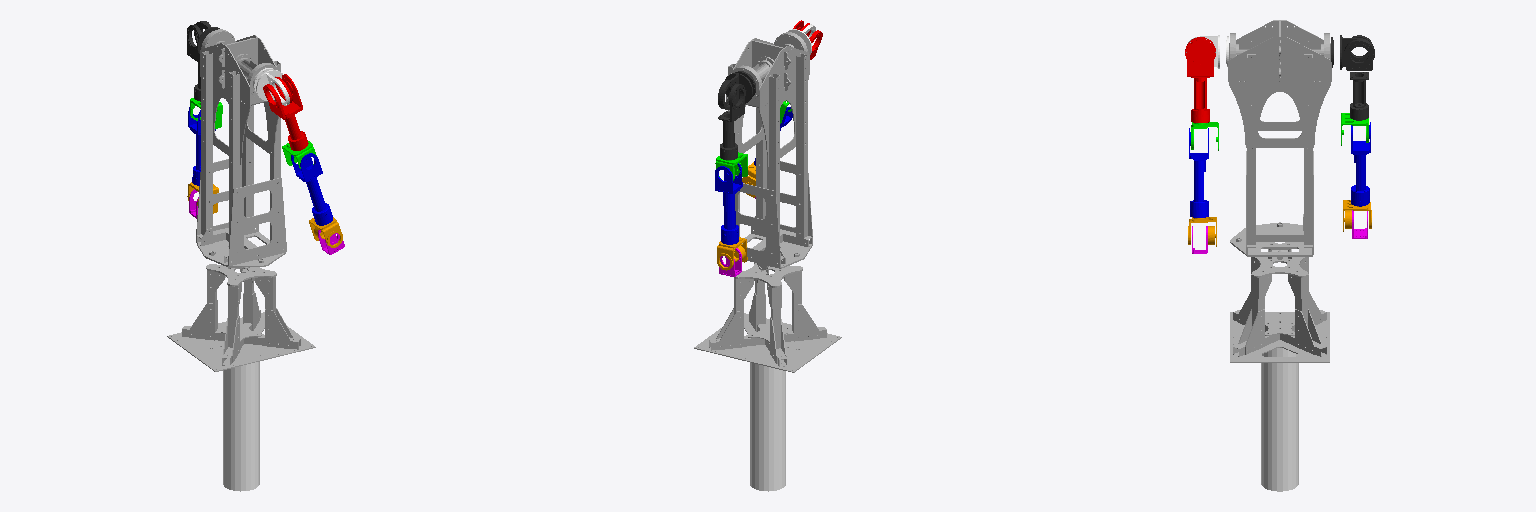
URDF robot description (neurobotboth):
<robot
  name="neurobotboth">
  <link 
    name="base_footprint">
    <visual>
    <origin rpy="0 0 0" xyz="0 0 0"/>
    <geometry>
       <box size="0.05 0.05 0.001"/>
    </geometry>
    <material name="TransparentGreen"/>
    </visual>
  </link>
  <link
    name="base_leg">
    <inertial>
      <origin
        xyz="0 -1.11022302462516E-16 0.2335"
        rpy="0 0 0" />
      <mass
        value="4.43804940190996" />
      <inertia
        ixx="0.0840137545279562"
        ixy="0"
        ixz="-5.53246823430371E-34"
        iyy="0.0840137545279562"
        iyz="1.8876145408187E-34"
        izz="0.00671254972038881" />
    </inertial>
    <visual>
      <origin
        xyz="0 0 0"
        rpy="0 0 0" />
      <geometry>
        <mesh
          filename="package://neurobotboth/meshes/base_leg.stl" />
      </geometry>
      <material
        name="">
        <color
          rgba="1 1 1 1" />
      </material>
    </visual>
    <collision>
      <origin
        xyz="0 0 0"
        rpy="0 0 0" />
      <geometry>
        <mesh
          filename="package://neurobotboth/meshes/base_leg.stl" />
      </geometry>
    </collision>
  </link>
  <joint name="joint_footprint" type="fixed">
    <origin rpy="0 0 0" xyz="0 0 0"/>
    <parent link="base_footprint"/>
    <child link="base_leg"/>
  </joint>
  <link
    name="base_link">
    <inertial>
      <origin
        xyz="-0.00215359092121389 -0.000793224055706809 0.502026253045581"
        rpy="0 0 0" />
      <mass
        value="2.59431720777893" />
      <inertia
        ixx="0.3523313561318"
        ixy="0.000539614748826474"
        ixz="0.00816862739544269"
        iyy="0.351242034325023"
        iyz="-0.00125197561514708"
        izz="0.0345525607669928" />
    </inertial>
    <visual>
      <origin
        xyz="0 0 0"
        rpy="0 0 0" />
      <geometry>
        <mesh
          filename="package://neurobotboth/meshes/base_link.stl" />
      </geometry>
      <material
        name="">
        <color
          rgba="0.752941176470588 0.752941176470588 0.752941176470588 1" />
      </material>
    </visual>
    <collision>
      <origin
        xyz="0 0 0"
        rpy="0 0 0" />
      <geometry>
        <mesh
          filename="package://neurobotboth/meshes/base_link.stl" />
      </geometry>
    </collision>
  </link>
  <joint
    name="joint_base"
    type="fixed">
    <origin
      xyz="-0.0056343 4.8341E-05 0.467"
      rpy="0 0 0" />
    <parent
      link="base_leg" />
    <child
      link="base_link" />
    <axis
      xyz="0 0 0" />
  </joint>
  <link
    name="right_arm_link_0">
  </link>
  <joint
    name="right_arm_joint_0"
    type="fixed">
    <origin
      xyz="0.0056343 -0.14605 0.919"
      rpy="1.5708 0.30972 -3.1416" />
    <parent
      link="base_link" />
    <child
      link="right_arm_link_0" />
    <axis
      xyz="0 0 0" />
  </joint>
  <link
    name="right_arm_link_1">
    <inertial>
      <origin
        xyz="-0.000327200298236963 -1.66533453693773E-16 -0.0359628362808107"
        rpy="0 0 0" />
      <mass
        value="0.107035798022397" />
      <inertia
        ixx="0.000188785968780782"
        ixy="-7.68864379368039E-21"
        ixz="-1.68236451485131E-06"
        iyy="0.000157075498484323"
        iyz="-2.07212052166984E-19"
        izz="0.000125761271549389" />
    </inertial>
    <visual>
      <origin
        xyz="0 0 0"
        rpy="0 0 0" />
      <geometry>
        <mesh
          filename="package://neurobotboth/meshes/right_arm_link_1.stl" />
      </geometry>
      <material
        name="">
        <color
          rgba="1 1 1 1" />
      </material>
    </visual>
    <collision>
      <origin
        xyz="0 0 0"
        rpy="0 0 0" />
      <geometry>
        <mesh
          filename="package://neurobotboth/meshes/right_arm_link_1.stl" />
      </geometry>
    </collision>
  </link>
  <joint
    name="right_arm_joint_1"
    type="revolute">
    <origin
      xyz="0 0 -0.001"
      rpy="0 0 0" />
    <parent
      link="right_arm_link_0" />
    <child
      link="right_arm_link_1" />
    <axis
      xyz="0 0 1" />
    <limit
      lower="-1.57"
      upper="1.57"
      effort="2"
      velocity="0.5" />
  </joint>
  <link
    name="right_arm_link_2">
    <inertial>
      <origin
        xyz="0.0650617938997774 -3.74272418668387E-06 0.00884791201131907"
        rpy="0 0 0" />
      <mass
        value="0.255566385563294" />
      <inertia
        ixx="0.00024551385027943"
        ixy="1.05634262378188E-07"
        ixz="1.70511900676993E-05"
        iyy="0.00127080560186476"
        iyz="1.1028518537721E-09"
        izz="0.00126072659055335" />
    </inertial>
    <visual>
      <origin
        xyz="0 0 0"
        rpy="0 0 0" />
      <geometry>
        <mesh
          filename="package://neurobotboth/meshes/right_arm_link_2.stl" />
      </geometry>
      <material
        name="">
        <color
          rgba="1 0 0 1" />
      </material>
    </visual>
    <collision>
      <origin
        xyz="0 0 0"
        rpy="0 0 0" />
      <geometry>
        <mesh
          filename="package://neurobotboth/meshes/right_arm_link_2.stl" />
      </geometry>
    </collision>
  </link>
  <joint
    name="right_arm_joint_2"
    type="revolute">
    <origin
      xyz="0.004 0 -0.084"
      rpy="1.5708 -2.1829E-14 -1.5708" />
    <parent
      link="right_arm_link_1" />
    <child
      link="right_arm_link_2" />
    <axis
      xyz="0 0 -1" />
    <limit
      lower="-0.78"
      upper="0.78"
      effort="2"
      velocity="0.5" />
  </joint>
  <link
    name="right_arm_link_3">
    <inertial>
      <origin
        xyz="0.0153020226123044 -5.81423797996194E-13 -0.0262980249667745"
        rpy="0 0 0" />
      <mass
        value="0.0789715110556532" />
      <inertia
        ixx="7.19666232277633E-05"
        ixy="1.68404549474258E-15"
        ixz="1.68863370887187E-05"
        iyy="0.000116283270534729"
        iyz="-6.41649606133214E-16"
        izz="0.000104168336512131" />
    </inertial>
    <visual>
      <origin
        xyz="0 0 0"
        rpy="0 0 0" />
      <geometry>
        <mesh
          filename="package://neurobotboth/meshes/right_arm_link_3.stl" />
      </geometry>
      <material
        name="">
        <color
          rgba="0 1 0.00392156862745098 1" />
      </material>
    </visual>
    <collision>
      <origin
        xyz="0 0 0"
        rpy="0 0 0" />
      <geometry>
        <mesh
          filename="package://neurobotboth/meshes/right_arm_link_3.stl" />
      </geometry>
    </collision>
  </link>
  <joint
    name="right_arm_joint_3"
    type="revolute">
    <origin
      xyz="0.204 0 0.01"
      rpy="-1.5708 3.8018E-11 1.5708" />
    <parent
      link="right_arm_link_2" />
    <child
      link="right_arm_link_3" />
    <axis
      xyz="0.0048522 0 0.99999" />
    <limit
      lower="-3.14"
      upper="3.14"
      effort="2"
      velocity="0.5" />
  </joint>
  <link
    name="right_arm_link_4">
    <inertial>
      <origin
        xyz="0.110286427763568 -2.47783699109938E-05 0.0247402908898989"
        rpy="0 0 0" />
      <mass
        value="0.1635924370838" />
      <inertia
        ixx="9.17176019284682E-05"
        ixy="3.47472024491752E-07"
        ixz="1.44062358020974E-05"
        iyy="0.000940638096634904"
        iyz="-9.43821184593951E-09"
        izz="0.000935522761596194" />
    </inertial>
    <visual>
      <origin
        xyz="0 0 0"
        rpy="0 0 0" />
      <geometry>
        <mesh
          filename="package://neurobotboth/meshes/right_arm_link_4.stl" />
      </geometry>
      <material
        name="">
        <color
          rgba="0 0 1 1" />
      </material>
    </visual>
    <collision>
      <origin
        xyz="0 0 0"
        rpy="0 0 0" />
      <geometry>
        <mesh
          filename="package://neurobotboth/meshes/right_arm_link_4.stl" />
      </geometry>
    </collision>
  </link>
  <joint
    name="right_arm_joint_4"
    type="revolute">
    <origin
      xyz="0.02 0 -0.051"
      rpy="3.1416 1.5708 0" />
    <parent
      link="right_arm_link_3" />
    <child
      link="right_arm_link_4" />
    <axis
      xyz="0 0 -1" />
    <limit
      lower="-1.57"
      upper="1.57"
      effort="2"
      velocity="0.5" />
  </joint>
  <link
    name="right_arm_link_5">
    <inertial>
      <origin
        xyz="-2.02615701994091E-15 0.0169801683752191 -0.0349097801090397"
        rpy="0 0 0" />
      <mass
        value="0.0980468372542702" />
      <inertia
        ixx="0.000146622459303631"
        ixy="1.29985969140156E-08"
        ixz="-5.66526182695182E-11"
        iyy="9.25528351448713E-05"
        iyz="2.22452497831366E-05"
        izz="0.000108961772352676" />
    </inertial>
    <visual>
      <origin
        xyz="0 0 0"
        rpy="0 0 0" />
      <geometry>
        <mesh
          filename="package://neurobotboth/meshes/right_arm_link_5.stl" />
      </geometry>
      <material
        name="">
        <color
          rgba="1 0.666666666666667 0 1" />
      </material>
    </visual>
    <collision>
      <origin
        xyz="0 0 0"
        rpy="0 0 0" />
      <geometry>
        <mesh
          filename="package://neurobotboth/meshes/right_arm_link_5.stl" />
      </geometry>
    </collision>
  </link>
  <joint
    name="right_arm_joint_5"
    type="revolute">
    <origin
      xyz="0.2275 0 0.022412"
      rpy="-1.5664 -3.7816E-11 1.5708" />
    <parent
      link="right_arm_link_4" />
    <child
      link="right_arm_link_5" />
    <axis
      xyz="0 0 1" />
    <limit
      lower="-3.14"
      upper="3.14"
      effort="2"
      velocity="0.5" />
  </joint>
  <link
    name="right_arm_link_6">
    <inertial>
      <origin
        xyz="0.0287664746286838 -7.08211267408387E-13 0.0186548764386218"
        rpy="0 0 0" />
      <mass
        value="0.0342933650278287" />
      <inertia
        ixx="2.12655468606329E-05"
        ixy="-2.18723494617966E-17"
        ixz="5.76746741176577E-07"
        iyy="2.81264708549031E-05"
        iyz="8.96065566988484E-17"
        izz="2.57654425067357E-05" />
    </inertial>
    <visual>
      <origin
        xyz="0 0 0"
        rpy="0 0 0" />
      <geometry>
        <mesh
          filename="package://neurobotboth/meshes/right_arm_link_6.stl" />
      </geometry>
      <material
        name="">
        <color
          rgba="1 0 1 1" />
      </material>
    </visual>
    <collision>
      <origin
        xyz="0 0 0"
        rpy="0 0 0" />
      <geometry>
        <mesh
          filename="package://neurobotboth/meshes/right_arm_link_6.stl" />
      </geometry>
    </collision>
  </link>
  <joint
    name="right_arm_joint_6"
    type="revolute">
    <origin
      xyz="0 0.017758 -0.055578"
      rpy="-5.1124E-11 1.5664 -1.5708" />
    <parent
      link="right_arm_link_5" />
    <child
      link="right_arm_link_6" />
    <axis
      xyz="0 0 -1" />
    <limit
      lower="-1.57"
      upper="1.57"
      effort="2"
      velocity="0.5" />
  </joint>
  <link
    name="left_arm_link_0">
  </link>
  <joint
    name="left_arm_joint_0"
    type="fixed">
    <origin
      xyz="0.0056343 0.14595 0.917"
      rpy="1.5734 -0.018325 3.0023" />
    <parent
      link="base_link" />
    <child
      link="left_arm_link_0" />
    <axis
      xyz="0 0 0" />
  </joint>
  <link
    name="left_arm_Link_1">
    <inertial>
      <origin
        xyz="0.00466685580630952 -1.11022302462516E-15 0.0356602455160837"
        rpy="0 0 0" />
      <mass
        value="0.107035798022396" />
      <inertia
        ixx="0.000188034571467992"
        ixy="-1.1808830424807E-20"
        ixz="-7.04431263850407E-06"
        iyy="0.000157075498483852"
        iyz="-1.18319914819585E-19"
        izz="0.000126512668861709" />
    </inertial>
    <visual>
      <origin
        xyz="0 0 0"
        rpy="0 0 0" />
      <geometry>
        <mesh
          filename="package://neurobotboth/meshes/left_arm_Link_1.stl" />
      </geometry>
      <material
        name="">
        <color
          rgba="0.250980392156863 0.250980392156863 0.250980392156863 1" />
      </material>
    </visual>
    <collision>
      <origin
        xyz="0 0 0"
        rpy="0 0 0" />
      <geometry>
        <mesh
          filename="package://neurobotboth/meshes/left_arm_Link_1.stl" />
      </geometry>
    </collision>
  </link>
  <joint
    name="left_arm_joint_1"
    type="revolute">
    <origin
      xyz="0 0 0.001"
      rpy="0 0 0" />
    <parent
      link="left_arm_link_0" />
    <child
      link="left_arm_Link_1" />
    <axis
      xyz="0.13878 0 0.99032" />
    <limit
      lower="-1.57"
      upper="1.57"
      effort="2"
      velocity="0.5" />
  </joint>
  <link
    name="left_arm_link_2">
    <inertial>
      <origin
        xyz="0.0788175837647441 -5.95414185977639E-06 0.000165336903578506"
        rpy="0 0 0" />
      <mass
        value="0.160646914181548" />
      <inertia
        ixx="0.000125127504737375"
        ixy="9.24766480165639E-08"
        ixz="-7.06597547048381E-05"
        iyy="0.00102428232334361"
        iyz="9.40786019061417E-09"
        izz="0.00104065620236747" />
    </inertial>
    <visual>
      <origin
        xyz="0 0 0"
        rpy="0 0 0" />
      <geometry>
        <mesh
          filename="package://neurobotboth/meshes/left_arm_link_2.stl" />
      </geometry>
      <material
        name="">
        <color
          rgba="0.250980392156863 0.250980392156863 0.250980392156863 1" />
      </material>
    </visual>
    <collision>
      <origin
        xyz="0 0 0"
        rpy="0 0 0" />
      <geometry>
        <mesh
          filename="package://neurobotboth/meshes/left_arm_link_2.stl" />
      </geometry>
    </collision>
  </link>
  <joint
    name="left_arm_joint_2"
    type="revolute">
    <origin
      xyz="0.015619 0 0.082632"
      rpy="1.4316 -1.5635E-13 -1.5708" />
    <parent
      link="left_arm_Link_1" />
    <child
      link="left_arm_link_2" />
    <axis
      xyz="0 0 -1" />
    <limit
      lower="-0.78"
      upper="0.78"
      effort="2"
      velocity="0.5" />
  </joint>
  <link
    name="left_arm_link_3">
    <inertial>
      <origin
        xyz="0.000486585292986369 0.0153020226121923 -0.0262935230028779"
        rpy="0 0 0" />
      <mass
        value="0.0789715110556529" />
      <inertia
        ixx="0.0001162791229741"
        ixy="-3.12443359916851E-07"
        ixz="2.24120996575773E-07"
        iyy="7.19666232277628E-05"
        iyz="1.68834463134955E-05"
        izz="0.000104172484072759" />
    </inertial>
    <visual>
      <origin
        xyz="0 0 0"
        rpy="0 0 0" />
      <geometry>
        <mesh
          filename="package://neurobotboth/meshes/left_arm_link_3.stl" />
      </geometry>
      <material
        name="">
        <color
          rgba="0 1 0.00392156862745098 1" />
      </material>
    </visual>
    <collision>
      <origin
        xyz="0 0 0"
        rpy="0 0 0" />
      <geometry>
        <mesh
          filename="package://neurobotboth/meshes/left_arm_link_3.stl" />
      </geometry>
    </collision>
  </link>
  <joint
    name="left_arm_joint_3"
    type="revolute">
    <origin
      xyz="0.204 0 0.01"
      rpy="-3.1416 1.5523 1.2227E-10" />
    <parent
      link="left_arm_link_2" />
    <child
      link="left_arm_link_3" />
    <axis
      xyz="-0.018503 0 0.99983" />
    <limit
      lower="-3.14"
      upper="3.14"
      effort="2"
      velocity="0.5" />
  </joint>
  <link
    name="left_arm_link_4">
    <inertial>
      <origin
        xyz="0.110286427736446 -2.47783948261193E-05 -0.0142597091140066"
        rpy="0 0 0" />
      <mass
        value="0.163592437060337" />
      <inertia
        ixx="9.17176023887561E-05"
        ixy="3.47471633503439E-07"
        ixz="1.44062356695314E-05"
        iyy="0.000940638096231336"
        iyz="-9.43767718859236E-09"
        izz="0.000935522761509331" />
    </inertial>
    <visual>
      <origin
        xyz="0 0 0"
        rpy="0 0 0" />
      <geometry>
        <mesh
          filename="package://neurobotboth/meshes/left_arm_link_4.stl" />
      </geometry>
      <material
        name="">
        <color
          rgba="0 0 1 1" />
      </material>
    </visual>
    <collision>
      <origin
        xyz="0 0 0"
        rpy="0 0 0" />
      <geometry>
        <mesh
          filename="package://neurobotboth/meshes/left_arm_link_4.stl" />
      </geometry>
    </collision>
  </link>
  <joint
    name="left_arm_joint_4"
    type="revolute">
    <origin
      xyz="0.00094364 -0.019 -0.050991"
      rpy="1.5708 1.5523 3.715E-14" />
    <parent
      link="left_arm_link_3" />
    <child
      link="left_arm_link_4" />
    <axis
      xyz="0 0 1" />
    <limit
      lower="-1.57"
      upper="1.57"
      effort="2"
      velocity="0.5" />
  </joint>
  <link
    name="left_arm_link_5">
    <inertial>
      <origin
        xyz="-1.74860126378462E-15 0.0171321551873778 -0.0353354435015221"
        rpy="0 0 0" />
      <mass
        value="0.0980468372542703" />
      <inertia
        ixx="0.000146622459303631"
        ixy="1.29987203700121E-08"
        ixz="-2.26275918308371E-18"
        iyy="9.23592447263128E-05"
        iyz="2.21728899253533E-05"
        izz="0.000109155362771234" />
    </inertial>
    <visual>
      <origin
        xyz="0 0 0"
        rpy="0 0 0" />
      <geometry>
        <mesh
          filename="package://neurobotboth/meshes/left_arm_link_5.stl" />
      </geometry>
      <material
        name="">
        <color
          rgba="1 0.666666666666667 0 1" />
      </material>
    </visual>
    <collision>
      <origin
        xyz="0 0 0"
        rpy="0 0 0" />
      <geometry>
        <mesh
          filename="package://neurobotboth/meshes/left_arm_link_5.stl" />
      </geometry>
    </collision>
  </link>
  <joint
    name="left_arm_joint_5"
    type="revolute">
    <origin
      xyz="0.227 0 -0.016588"
      rpy="-1.5708 1.4988E-14 1.5708" />
    <parent
      link="left_arm_link_4" />
    <child
      link="left_arm_link_5" />
    <axis
      xyz="0 0 1" />
    <limit
      lower="-3.14"
      upper="3.14"
      effort="2"
      velocity="0.5" />
  </joint>
  <link
    name="left_arm_link_6">
    <inertial>
      <origin
        xyz="0.028766474628684 0.00258890688673372 0.0184743599638002"
        rpy="0 0 0" />
      <mass
        value="0.0342933650278285" />
      <inertia
        ixx="2.1265546860633E-05"
        ixy="8.00403913178448E-08"
        ixz="5.7116577209727E-07"
        iyy="2.80809983048714E-05"
        iyz="-3.24490719253941E-07"
        izz="2.58109150567672E-05" />
    </inertial>
    <visual>
      <origin
        xyz="0 0 0"
        rpy="0 0 0" />
      <geometry>
        <mesh
          filename="package://neurobotboth/meshes/left_arm_link_6.stl" />
      </geometry>
      <material
        name="">
        <color
          rgba="1 0 1 1" />
      </material>
    </visual>
    <collision>
      <origin
        xyz="0 0 0"
        rpy="0 0 0" />
      <geometry>
        <mesh
          filename="package://neurobotboth/meshes/left_arm_link_6.stl" />
      </geometry>
    </collision>
  </link>
  <joint
    name="left_arm_joint_6"
    type="revolute">
    <origin
      xyz="0 0.018 -0.056"
      rpy="1.71 1.5708 0" />
    <parent
      link="left_arm_link_5" />
    <child
      link="left_arm_link_6" />
    <axis
      xyz="0 0.13878 0.99032" />
    <limit
      lower="-1.57"
      upper="1.57"
      effort="2"
      velocity="0.5" />
  </joint>
  <link
    name="wheel_left">
    <visual>
    <origin rpy="0 0 0"  xyz="0 0 0"/>
    <geometry>
       <box size="0.05 0.05 0.001"/>
    </geometry>
    <material name="TransparentGreen"/>
    </visual>
  </link>
  <joint
    name="base_l_wheel_joint"
    type="fixed">
    <origin rpy="0 0.3 0" xyz="0 0 0"/>
    <parent link="base_leg"/>
    <child link="wheel_left"/>
  </joint>
  <link
    name="wheel_right">
    <visual>
    <origin rpy="0 0 0"  xyz="0 0 0"/>
    <geometry>
       <box size="0.05 0.05 0.001"/>
    </geometry>
    <material name="TransparentGreen"/>
    </visual>
  </link>
  <joint
    name="base_r_wheel_joint"
    type="fixed">
    <origin rpy="0 -0.3 0" xyz="0 0 0"/>
    <parent link="base_leg"/>
    <child link="wheel_right"/>
  </joint>
</robot>

--- Render facts (derived) ---
3 views of the same robot in one strip: view 1: azimuth 30°, elevation 25°; view 2: azimuth 150°, elevation 25°; view 3: azimuth 270°, elevation 25° (orthographic).
Model neurobotboth with 19 links and 18 joints (12 revolute, 6 fixed), rooted at base_footprint, posed all joints at 0.
Links seen in each view (by area): view 1: base_link, base_leg, right_arm_link_2, right_arm_link_4, right_arm_link_1, left_arm_link_2, left_arm_link_4; view 2: base_link, base_leg, left_arm_link_4, left_arm_link_2, left_arm_Link_1, left_arm_link_5; view 3: base_link, base_leg, right_arm_link_2, left_arm_link_2, left_arm_link_4, right_arm_link_4.
Boxes of the visible links, x1=… form: base_link: x1=167, y1=29, x2=315, y2=371; base_leg: x1=223, y1=362, x2=259, y2=491; right_arm_link_2: x1=263, y1=74, x2=308, y2=150; right_arm_link_4: x1=291, y1=153, x2=332, y2=225; right_arm_link_1: x1=253, y1=68, x2=289, y2=105; left_arm_link_2: x1=187, y1=21, x2=210, y2=101; left_arm_link_4: x1=188, y1=107, x2=215, y2=185; base_link: x1=694, y1=32, x2=841, y2=372; base_leg: x1=750, y1=362, x2=785, y2=491; left_arm_link_4: x1=715, y1=163, x2=742, y2=244; left_arm_link_2: x1=718, y1=80, x2=745, y2=159; left_arm_Link_1: x1=720, y1=71, x2=755, y2=109; left_arm_link_5: x1=717, y1=237, x2=747, y2=270; base_link: x1=1228, y1=20, x2=1331, y2=362; base_leg: x1=1261, y1=348, x2=1298, y2=491; right_arm_link_2: x1=1185, y1=37, x2=1215, y2=122; left_arm_link_2: x1=1344, y1=35, x2=1374, y2=120; left_arm_link_4: x1=1351, y1=122, x2=1370, y2=206; right_arm_link_4: x1=1189, y1=128, x2=1208, y2=217.
Size in the robot's own frame: 0.3846 by 0.5519 by 1.47 metres.
14 mesh visuals loaded from 14 distinct referenced files (14 binary STL).